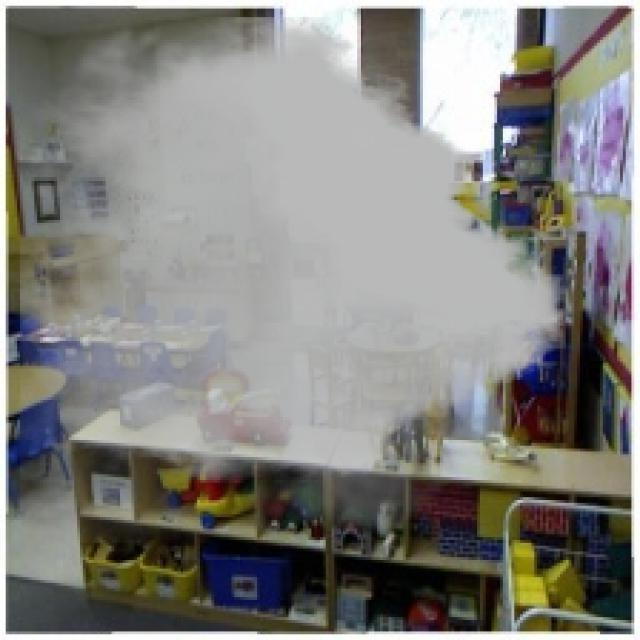Smoke: (20, 8, 566, 543)
